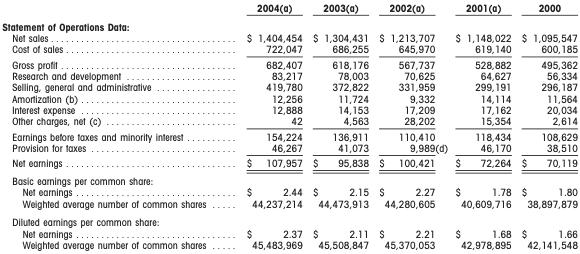table: (1, 0, 576, 250)
table column: (1, 0, 240, 250), (373, 0, 450, 250), (306, 0, 373, 250), (240, 0, 306, 250), (450, 0, 515, 250), (515, 0, 576, 250)
table column header: (1, 0, 576, 16)
table projected row header: (1, 16, 576, 31), (1, 212, 576, 227), (1, 171, 576, 185)
table row: (1, 154, 576, 171), (1, 0, 576, 16), (1, 16, 576, 31), (1, 197, 576, 212), (1, 212, 576, 227), (1, 171, 576, 185), (1, 43, 576, 56), (1, 56, 576, 69), (1, 115, 576, 128), (1, 128, 576, 141), (1, 141, 576, 154), (1, 31, 576, 43), (1, 69, 576, 81), (1, 103, 576, 115), (1, 185, 576, 197), (1, 238, 576, 250), (1, 81, 576, 92), (1, 92, 576, 103), (1, 227, 576, 238)
